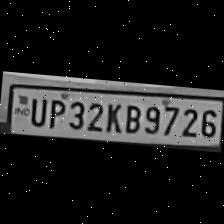2: (84, 98, 106, 133), (176, 104, 198, 139)
3: (64, 96, 86, 132)
6: (196, 106, 218, 140)
7: (159, 103, 180, 137)
9: (140, 101, 162, 135)
B: (119, 100, 142, 135)
K: (102, 100, 122, 134)
P: (44, 96, 65, 130)
U: (26, 94, 48, 128)
